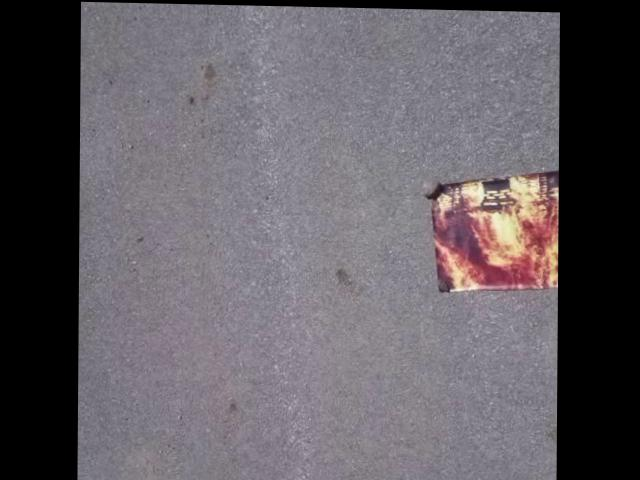fire-poster: (423, 163, 558, 296)
